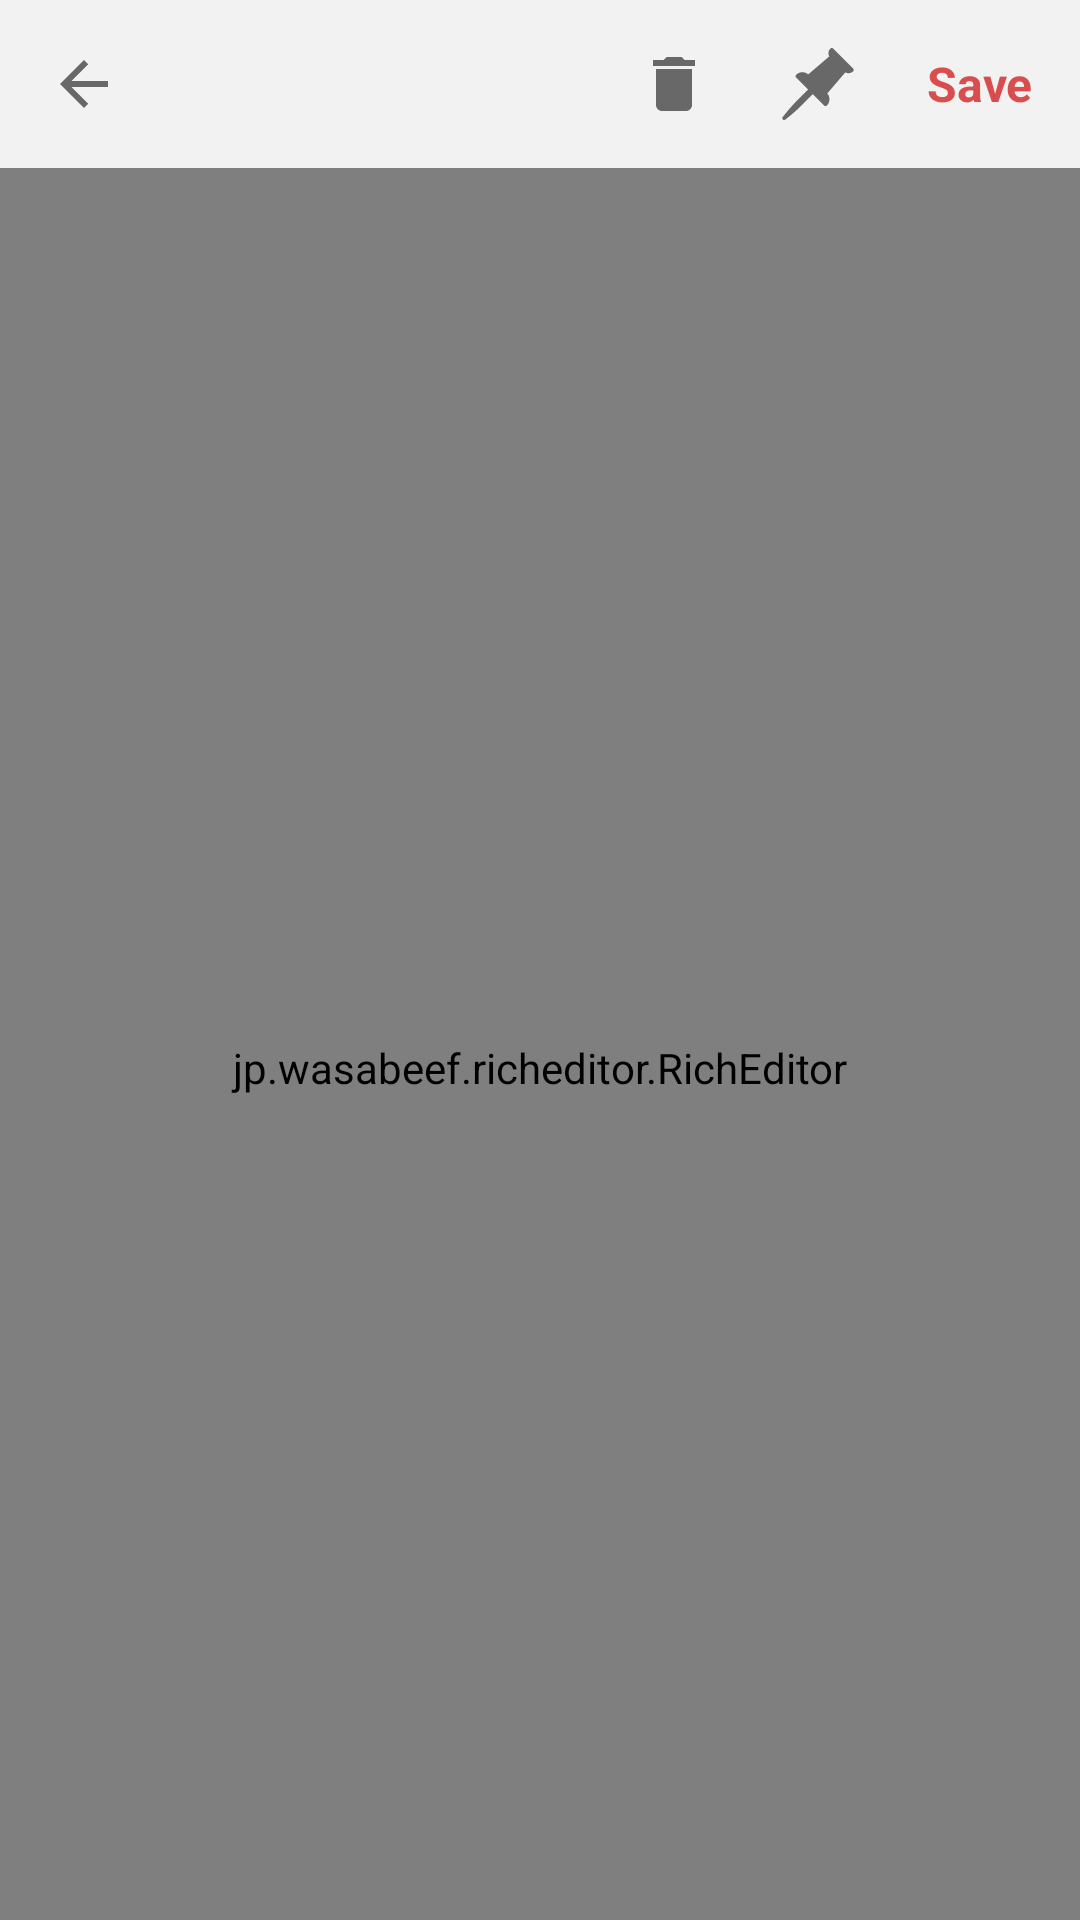

Named icons in this screenshot (1080 x 1920) and their bounding boxes, box=[x1, y1, x2, y2]:
arrow back: box=[60, 60, 108, 108]
delete: box=[653, 57, 695, 111]
pin: box=[782, 48, 854, 120]
